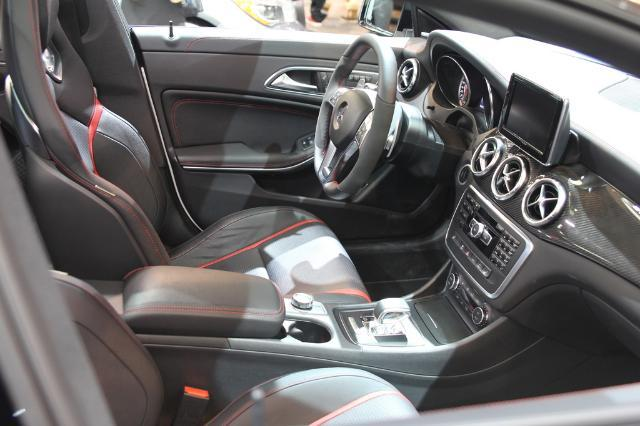Seatbelt: (58, 0, 86, 64)
